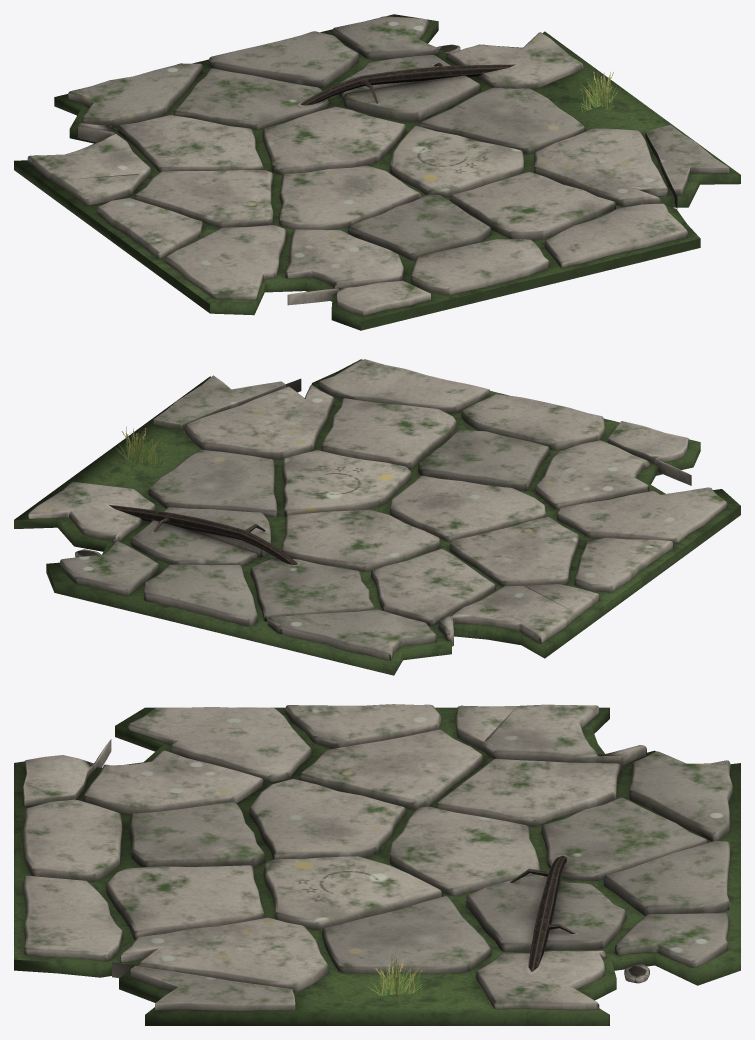
Rendered from PathFlagstoneCross.fbx.
3 renders of one model, top to bottom at view 1: azimuth 30°, elevation 25°; view 2: azimuth 150°, elevation 25°; view 3: azimuth 270°, elevation 25°, orthographic. The views are drawn at different scales.
Parts seen in each view (by area): view 1: PathFlagstoneCross_Main, PathFlagstoneCross_Leaves; view 2: PathFlagstoneCross_Main, PathFlagstoneCross_Leaves; view 3: PathFlagstoneCross_Main, PathFlagstoneCross_Leaves.
Part boxes in pixels (left/top/right/bottom): PathFlagstoneCross_Main: left=14, top=14, right=740, bottom=330; PathFlagstoneCross_Leaves: left=580, top=71, right=617, bottom=112; PathFlagstoneCross_Main: left=14, top=359, right=740, bottom=675; PathFlagstoneCross_Leaves: left=116, top=426, right=162, bottom=470; PathFlagstoneCross_Main: left=14, top=704, right=740, bottom=1025; PathFlagstoneCross_Leaves: left=369, top=949, right=422, bottom=1000.
Size of the model in its own units: 1020 by 84.47 by 1020.
